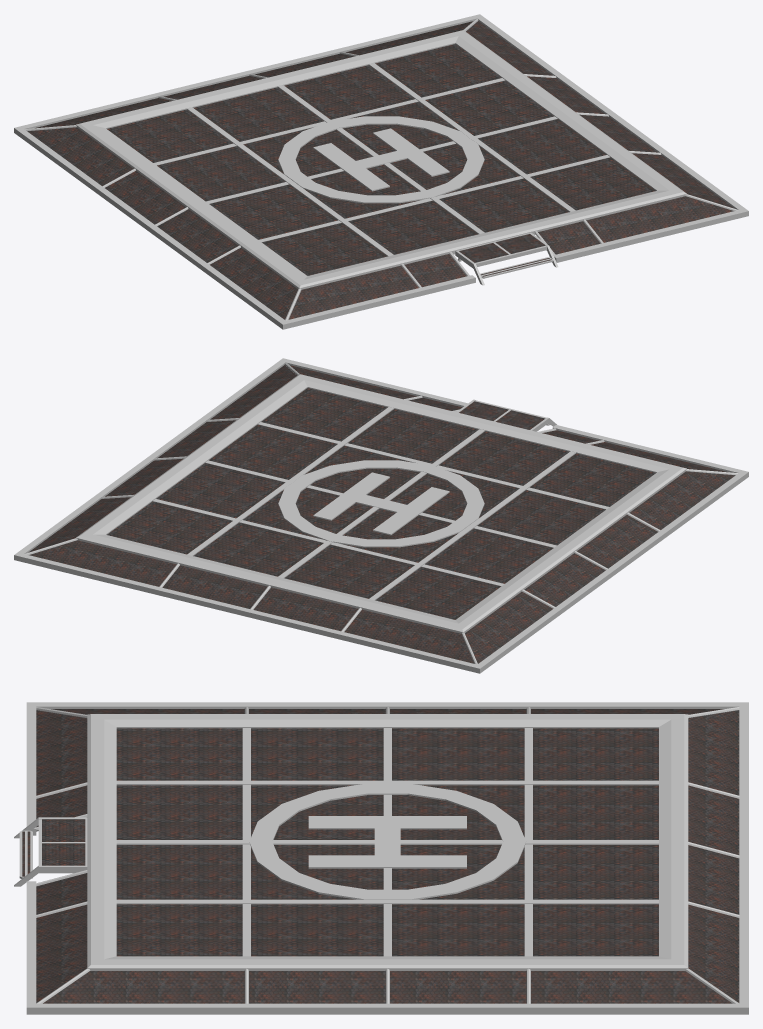
The model's file is SM_Runway_For_Helicopter.fbx.
The picture shows the model from 3 angles, top to bottom: view 1: azimuth 30°, elevation 25°; view 2: azimuth 150°, elevation 25°; view 3: azimuth 270°, elevation 25°; orthographic projection. The views are drawn at different scales.
Parts seen in each view (by area): view 1: SM_Runway_For_Helicopter; view 2: SM_Runway_For_Helicopter; view 3: SM_Runway_For_Helicopter.
Part boxes in pixels (x1,y1,x2,y2): SM_Runway_For_Helicopter: (14, 14, 748, 329); SM_Runway_For_Helicopter: (14, 358, 748, 673); SM_Runway_For_Helicopter: (14, 702, 748, 1014).
Size of the model in its own units: 2231 by 76.1 by 2270.
